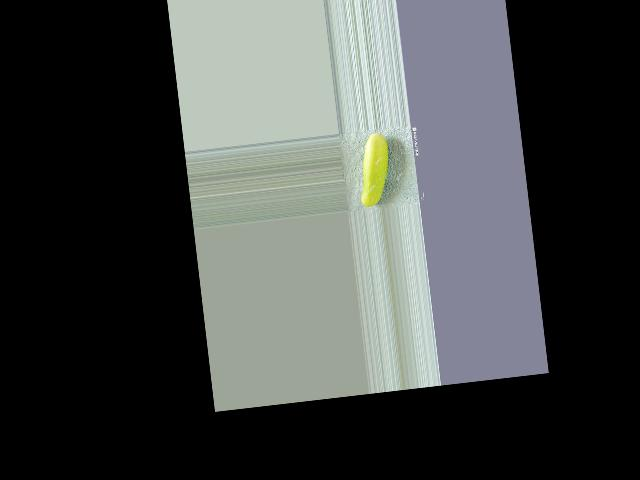cucumber: (354, 132, 394, 208)
